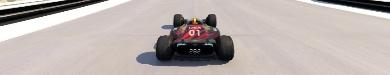Car: (154, 13, 234, 61)
